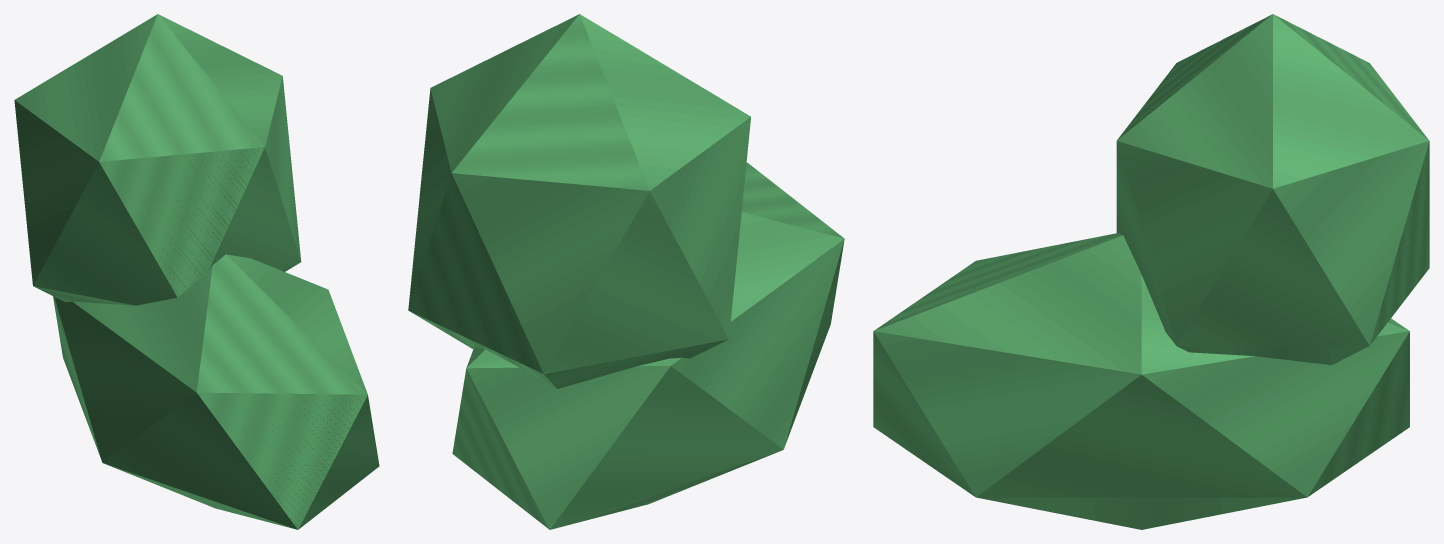
File: haste.glb
The picture shows the model from 3 angles, left to right: view 1: azimuth 30°, elevation 25°; view 2: azimuth 150°, elevation 25°; view 3: azimuth 270°, elevation 25°; orthographic projection. The views are drawn at different scales.
Parts seen in each view (by area): view 1: gear_haste; view 2: gear_haste; view 3: gear_haste.
Part boxes in pixels (bbox=[...]): gear_haste: bbox=[14, 14, 379, 529]; gear_haste: bbox=[408, 14, 844, 529]; gear_haste: bbox=[873, 14, 1429, 529].
Bounding box in the file's own units: 0.1878 × 0.325 × 0.3174.
Materials: 1 (1 with a texture image).
